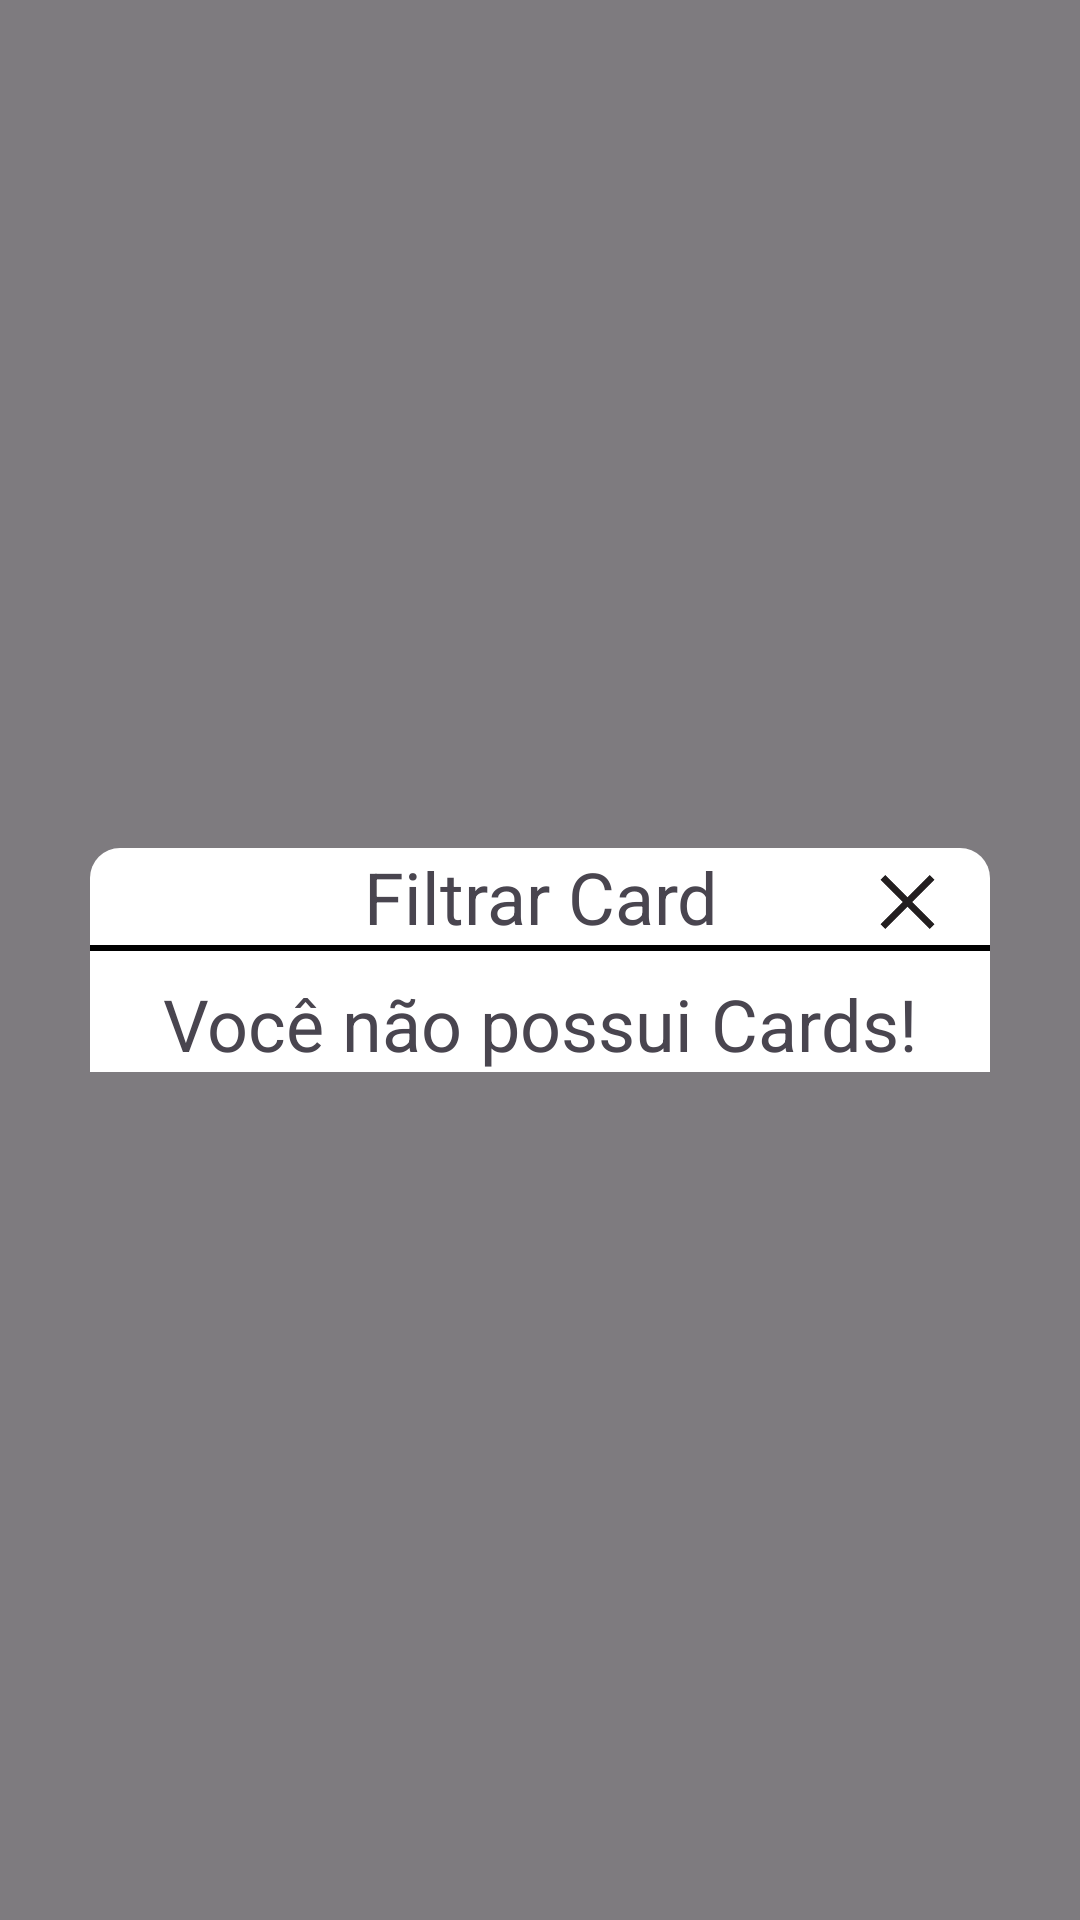

Screen size 1080x1920. Icon name, then its box in pixels as (x1, y1, x2, y2):
close: (880, 875, 935, 929)
